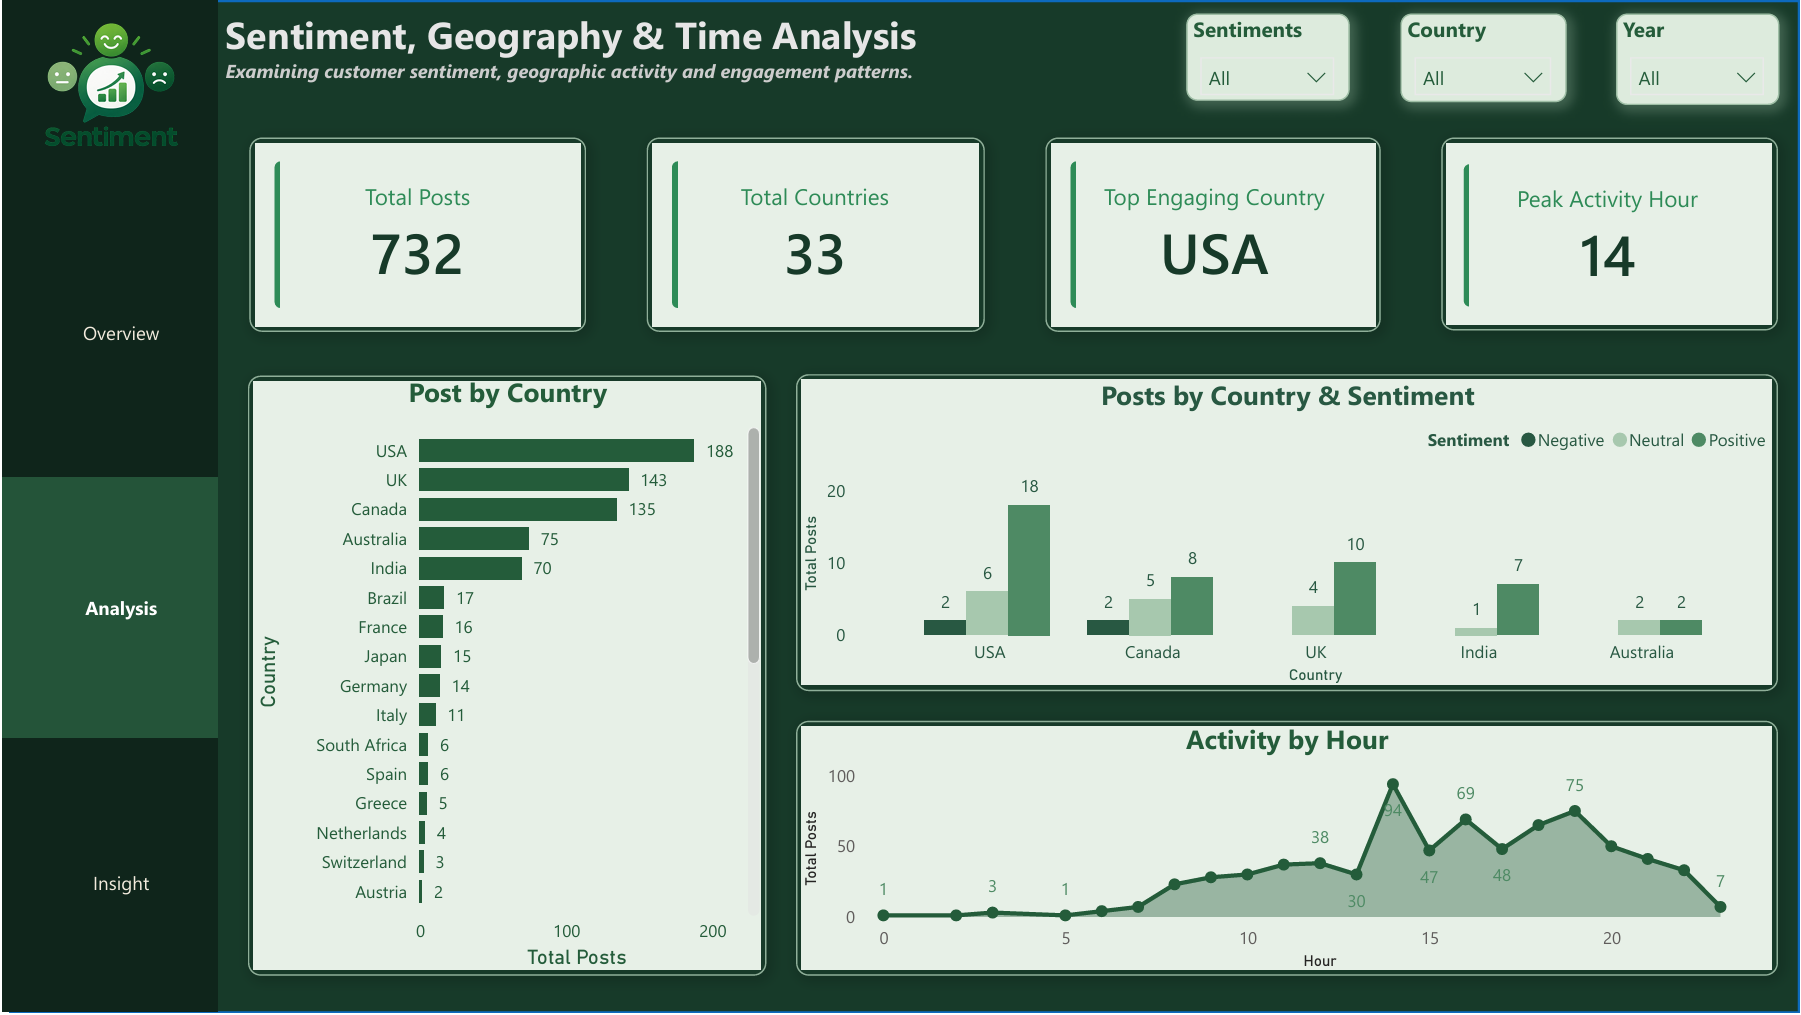

This screenshot's page, from the dashboard's own definition file:
{"tool":"powerbi","page":{"name":"Analysis","canvas":[1280,720],"ordinal":1},"visuals":[{"type":"shape","box":[4.6,0,1270.4,719.4],"z":0},{"type":"shape","box":[0,0,153.1,718.7],"z":1000},{"type":"shape","box":[174.3,266,367.9,425.7],"z":2000},{"type":"shape","box":[563.3,264.9,697.1,224.8],"z":3000},{"type":"shape","box":[563.3,511.1,697.1,180.6],"z":4000},{"type":"clusteredBarChart","title":"Post by Country","fields":{"Category":["3) Sentiment dataset.Country"],"Y":["3) Sentiment dataset.Total Posts"]},"box":[174.9,265.3,367.4,425.7],"z":5000},{"type":"lineChart","title":"Activity by Hour","fields":{"Y":["3) Sentiment dataset.Total Posts"],"Category":["3) Sentiment dataset.Hour","3) Sentiment dataset.Day"]},"box":[563.3,511.1,697.1,180.6],"z":6000},{"type":"shape","box":[174.5,97.1,239.8,138.1],"z":7000},{"type":"shape","box":[740.2,97.1,238.3,138.1],"z":8000},{"type":"shape","box":[1021.5,97.1,238.3,136.6],"z":9000},{"type":"shape","box":[457.4,97.1,239.8,138.1],"z":10000},{"type":"cardVisual","fields":{"Data":["3) Sentiment dataset.Total Posts"]},"box":[176.1,97.1,236.8,138.1],"z":11000},{"type":"cardVisual","fields":{"Data":["3) Sentiment dataset.Total Countries"]},"box":[458.4,97.1,236.8,138.1],"z":12000},{"type":"cardVisual","fields":{"Data":["3) Sentiment dataset.Top Engaging Country"]},"box":[740.7,97.1,238.3,138.1],"z":13000},{"type":"cardVisual","fields":{"Data":["3) Sentiment dataset.Peak Activity Hour"]},"box":[1020,98.7,238.3,135.1],"z":14000},{"type":"textbox","box":[152.9,0,667.8,89.3],"z":15000},{"type":"clusteredColumnChart","title":"Posts by Country & Sentiment","fields":{"Category":["3) Sentiment dataset.Country"],"Y":["3) Sentiment dataset.Total Posts"],"Series":["3) Sentiment dataset.Sentiment"]},"box":[563.3,266.5,698,222.6],"z":16000},{"type":"slicer","title":"Sentiments","fields":{"Values":["3) Sentiment dataset.Sentiment"]},"box":[840.3,9,116.2,62],"z":17000},{"type":"slicer","title":"Country","fields":{"Values":["3) Sentiment dataset.Country"]},"box":[992,9,117.5,63.3],"z":18000},{"type":"slicer","title":"Year","fields":{"Values":["3) Sentiment dataset.Year"]},"box":[1145,9,116.2,64.6],"z":19000},{"type":"pageNavigator","box":[0,142.9,153.1,577.3],"z":20000},{"type":"image","box":[0,1.5,153.1,129.7],"z":21000}]}

Visuals, with their boxes in screenshot pixels (x1, y1, x2, y2), scaled from the page's 1280x720 canvas onto the 1801x1015 screenshot:
shape: {"left": 6, "top": 0, "right": 1794, "bottom": 1014}
shape: {"left": 0, "top": 0, "right": 215, "bottom": 1013}
shape: {"left": 245, "top": 375, "right": 763, "bottom": 975}
shape: {"left": 793, "top": 373, "right": 1773, "bottom": 690}
shape: {"left": 793, "top": 721, "right": 1773, "bottom": 975}
"Post by Country" clusteredBarChart: {"left": 246, "top": 374, "right": 763, "bottom": 974}
"Activity by Hour" lineChart: {"left": 793, "top": 721, "right": 1773, "bottom": 975}
shape: {"left": 246, "top": 137, "right": 583, "bottom": 332}
shape: {"left": 1041, "top": 137, "right": 1377, "bottom": 332}
shape: {"left": 1437, "top": 137, "right": 1773, "bottom": 329}
shape: {"left": 644, "top": 137, "right": 981, "bottom": 332}
cardVisual - 3) Sentiment dataset.Total Posts: {"left": 248, "top": 137, "right": 581, "bottom": 332}
cardVisual - 3) Sentiment dataset.Total Countries: {"left": 645, "top": 137, "right": 978, "bottom": 332}
cardVisual - 3) Sentiment dataset.Top Engaging Country: {"left": 1042, "top": 137, "right": 1377, "bottom": 332}
cardVisual - 3) Sentiment dataset.Peak Activity Hour: {"left": 1435, "top": 139, "right": 1770, "bottom": 330}
textbox: {"left": 215, "top": 0, "right": 1155, "bottom": 126}
"Posts by Country & Sentiment" clusteredColumnChart: {"left": 793, "top": 376, "right": 1775, "bottom": 689}
"Sentiments" slicer: {"left": 1182, "top": 13, "right": 1346, "bottom": 100}
"Country" slicer: {"left": 1396, "top": 13, "right": 1561, "bottom": 102}
"Year" slicer: {"left": 1611, "top": 13, "right": 1775, "bottom": 104}
pageNavigator: {"left": 0, "top": 201, "right": 215, "bottom": 1014}
image: {"left": 0, "top": 2, "right": 215, "bottom": 185}
